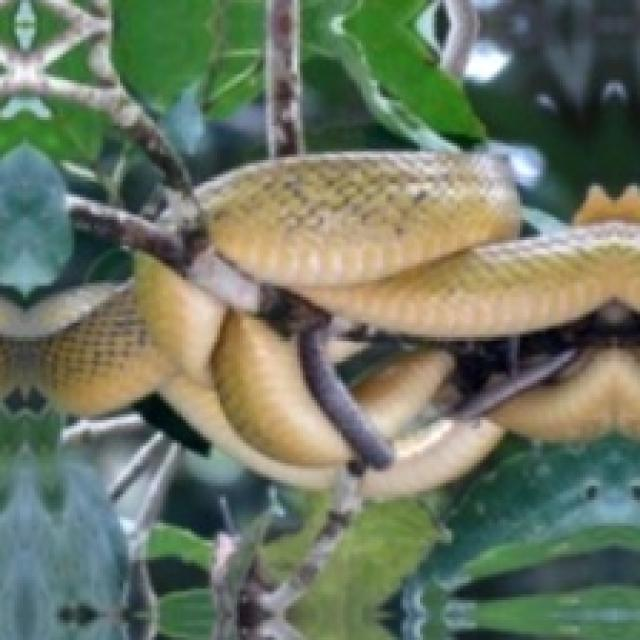red-tailed green ratsnake: (0, 151, 637, 497)
